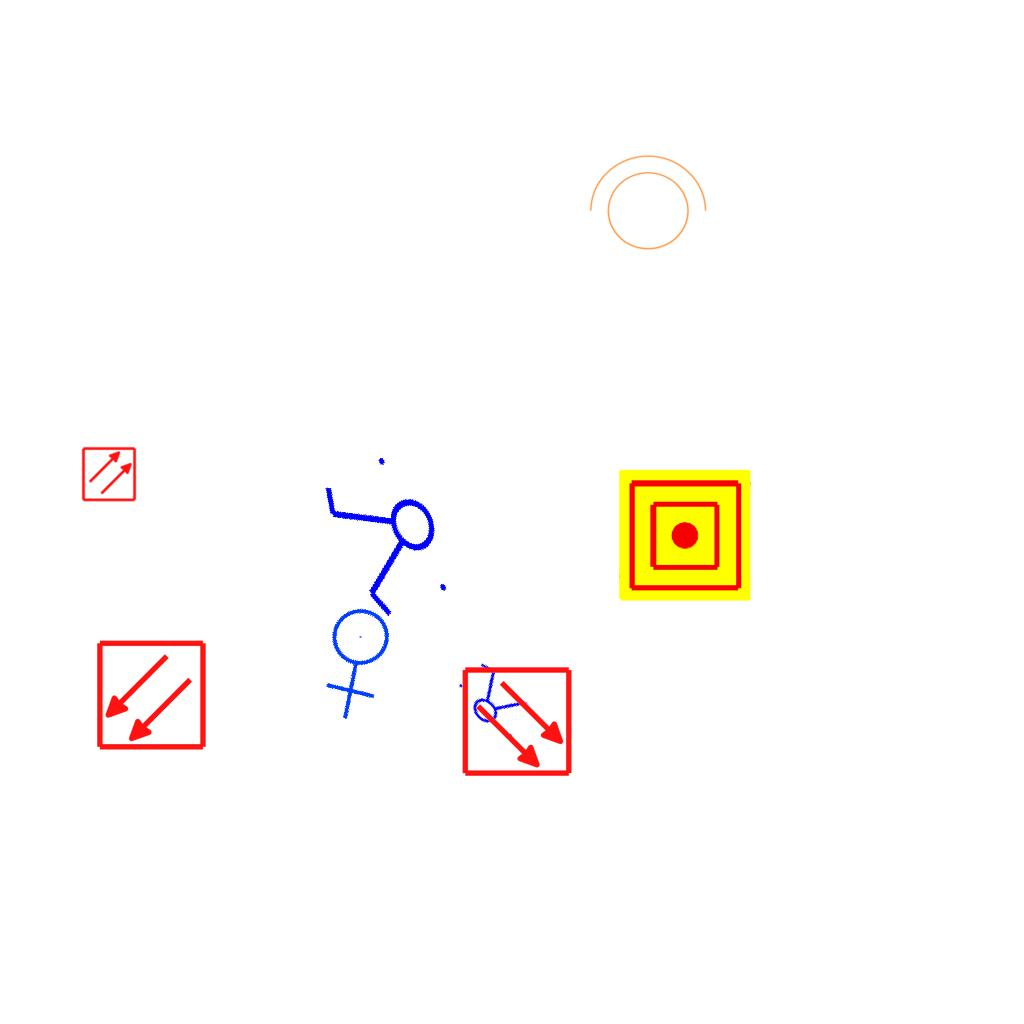Elektroanschluss_allgemein_230V_Geraeteanschlussdose_230V: (292, 591, 429, 725)
NAM-Nichtautomatischer_Melder: (619, 469, 751, 601)
RMO_Rauchmelder_optischer: (95, 639, 208, 752), (461, 665, 574, 778), (81, 446, 137, 502)
Scheinwerfer_fuer_Alarmbeleuchtung: (579, 150, 711, 262)
Serienschalter: (310, 440, 470, 634), (447, 654, 541, 748)
